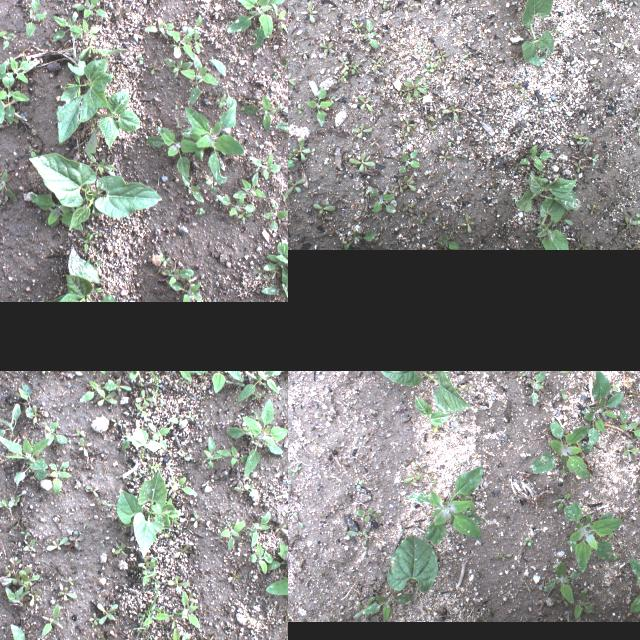crop: (29, 152, 161, 230), (409, 466, 486, 544), (116, 470, 182, 556), (57, 56, 115, 142), (561, 501, 625, 574), (365, 371, 473, 411), (526, 420, 594, 480), (85, 88, 141, 154), (388, 531, 444, 597), (585, 371, 627, 444), (49, 247, 103, 301), (514, 173, 580, 211), (520, 0, 555, 66), (530, 190, 568, 250), (67, 46, 129, 76), (122, 427, 164, 458), (413, 395, 451, 427), (627, 558, 640, 613), (101, 293, 117, 301)
weed: (180, 104, 243, 184), (227, 397, 288, 477), (147, 126, 206, 178), (133, 588, 190, 640), (227, 0, 285, 49), (552, 562, 600, 616), (0, 434, 49, 483), (28, 193, 84, 231), (180, 54, 218, 104), (0, 71, 31, 124), (240, 96, 286, 130), (236, 371, 281, 402), (210, 58, 237, 109), (265, 547, 288, 605), (359, 596, 417, 618), (304, 86, 334, 128), (122, 518, 190, 536), (186, 371, 243, 392), (519, 143, 555, 171), (51, 10, 83, 40), (234, 171, 266, 201), (528, 372, 552, 411), (249, 152, 281, 180), (84, 150, 118, 176), (262, 198, 288, 232), (26, 0, 48, 39), (263, 241, 288, 275), (6, 54, 34, 84), (166, 30, 194, 60), (261, 266, 288, 297), (249, 510, 271, 548), (248, 542, 274, 574), (0, 402, 20, 443), (165, 280, 202, 302), (399, 76, 428, 104), (80, 381, 118, 402), (368, 185, 397, 212), (217, 195, 256, 215), (180, 590, 200, 628), (4, 623, 48, 640), (50, 461, 72, 495), (220, 519, 244, 549), (400, 460, 430, 484), (618, 409, 640, 440), (69, 0, 109, 17), (163, 57, 193, 79), (267, 540, 288, 571), (70, 18, 102, 38), (119, 462, 159, 478), (216, 445, 248, 465), (144, 600, 168, 626), (182, 174, 204, 202), (147, 422, 169, 450), (342, 231, 376, 249), (41, 603, 60, 635), (44, 422, 68, 446), (204, 436, 222, 468), (348, 152, 376, 172), (2, 557, 22, 585), (20, 380, 34, 420), (17, 566, 39, 590), (0, 170, 17, 201), (146, 16, 174, 34), (169, 476, 197, 494), (344, 530, 372, 548), (186, 14, 208, 36), (96, 602, 118, 624), (292, 138, 312, 162), (164, 268, 193, 284), (401, 150, 421, 172), (0, 495, 19, 517), (435, 234, 461, 250), (441, 103, 463, 121), (142, 558, 156, 586), (5, 586, 29, 602), (459, 212, 476, 234), (357, 510, 383, 524), (396, 174, 416, 192), (366, 20, 378, 50), (136, 388, 156, 406), (168, 574, 188, 592), (115, 2, 131, 24), (136, 371, 161, 385), (78, 232, 95, 252), (46, 536, 70, 550), (301, 0, 316, 22), (288, 512, 306, 530), (352, 122, 372, 138), (163, 628, 189, 640), (617, 216, 639, 230), (288, 139, 295, 182), (276, 238, 288, 263), (312, 202, 336, 214), (358, 94, 374, 112), (68, 530, 84, 548), (108, 378, 132, 390), (622, 444, 638, 462), (58, 587, 78, 601), (97, 390, 117, 404), (193, 30, 204, 54), (165, 371, 191, 381), (146, 58, 162, 74), (288, 179, 305, 194), (128, 371, 144, 386), (80, 436, 92, 456), (279, 9, 288, 35), (576, 234, 590, 250), (114, 540, 128, 556), (288, 461, 304, 475), (206, 173, 217, 193), (190, 509, 202, 527), (494, 549, 512, 561), (321, 41, 337, 54), (2, 32, 14, 49), (276, 119, 288, 136), (225, 375, 245, 385), (88, 612, 102, 626), (371, 56, 383, 72), (434, 50, 450, 62), (174, 545, 190, 557), (353, 478, 372, 488), (252, 268, 270, 278), (572, 131, 590, 141), (30, 588, 40, 606), (559, 386, 569, 404), (338, 54, 349, 70), (422, 62, 433, 78), (438, 150, 452, 162), (24, 538, 36, 552), (135, 403, 147, 417), (402, 117, 412, 133), (85, 485, 98, 497), (398, 126, 409, 140), (178, 448, 192, 459), (554, 217, 572, 225), (28, 145, 38, 159), (216, 94, 226, 108), (238, 208, 252, 218), (160, 252, 170, 266), (352, 19, 362, 33), (428, 54, 438, 68), (61, 577, 78, 585), (288, 71, 297, 86), (328, 223, 339, 235), (428, 122, 437, 136), (585, 203, 595, 215), (573, 160, 583, 172), (513, 83, 525, 93), (350, 61, 360, 73), (408, 122, 418, 134), (32, 404, 38, 424), (110, 416, 122, 426), (624, 241, 638, 249), (170, 416, 184, 424), (402, 201, 413, 211), (418, 40, 428, 51), (575, 140, 593, 146), (620, 36, 628, 49), (20, 530, 30, 540), (186, 411, 196, 421), (0, 30, 8, 42), (276, 525, 288, 533), (380, 0, 390, 9), (298, 50, 308, 59), (592, 153, 598, 167), (195, 207, 205, 215), (334, 73, 344, 81), (385, 41, 395, 49), (433, 44, 443, 52), (187, 594, 197, 602), (138, 559, 148, 567), (100, 500, 112, 506), (419, 216, 427, 224), (425, 115, 435, 121), (635, 213, 640, 225), (152, 580, 162, 586), (526, 536, 532, 546), (91, 371, 110, 374), (282, 192, 288, 200), (153, 402, 165, 406), (610, 0, 621, 4), (138, 52, 142, 62), (298, 104, 302, 114), (598, 42, 606, 46)
